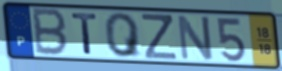5: (215, 16, 248, 64)
B: (31, 7, 69, 58)
N: (176, 13, 215, 62)
Q: (103, 12, 144, 59)
T: (70, 12, 100, 56)
Z: (140, 12, 179, 61)
